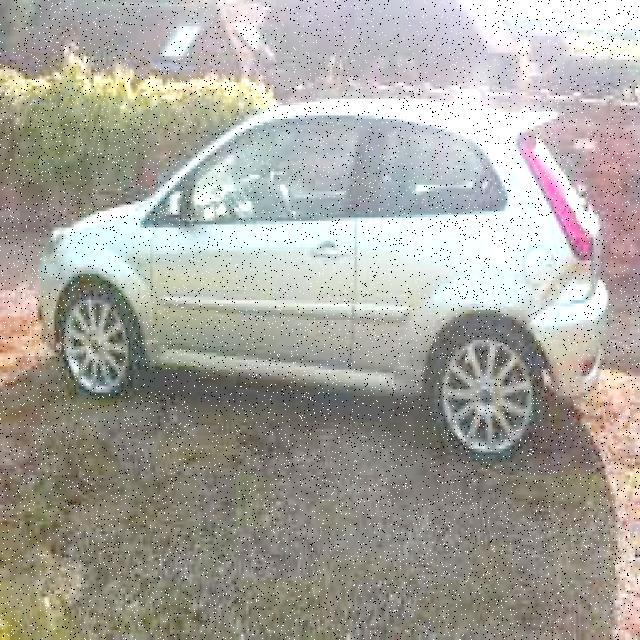car damage: (530, 255, 600, 334)
